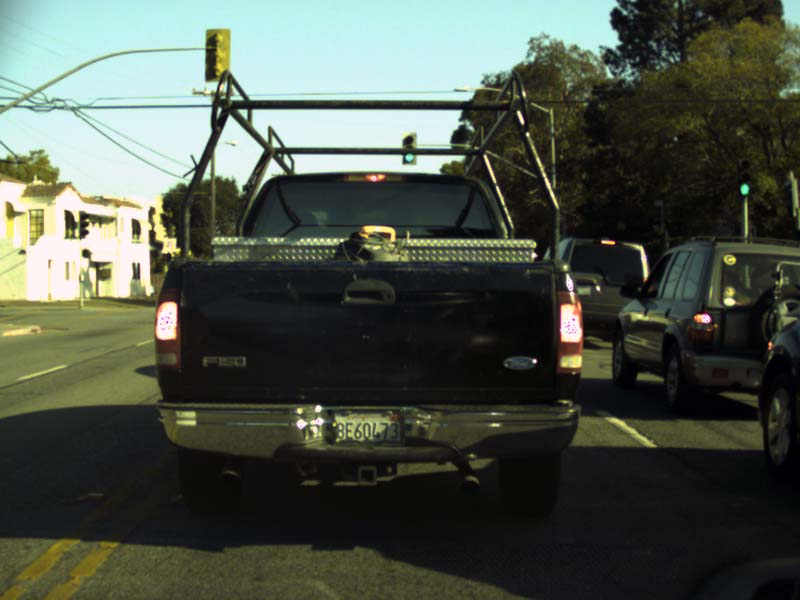Green: (737, 159, 752, 196), (402, 132, 417, 163)
